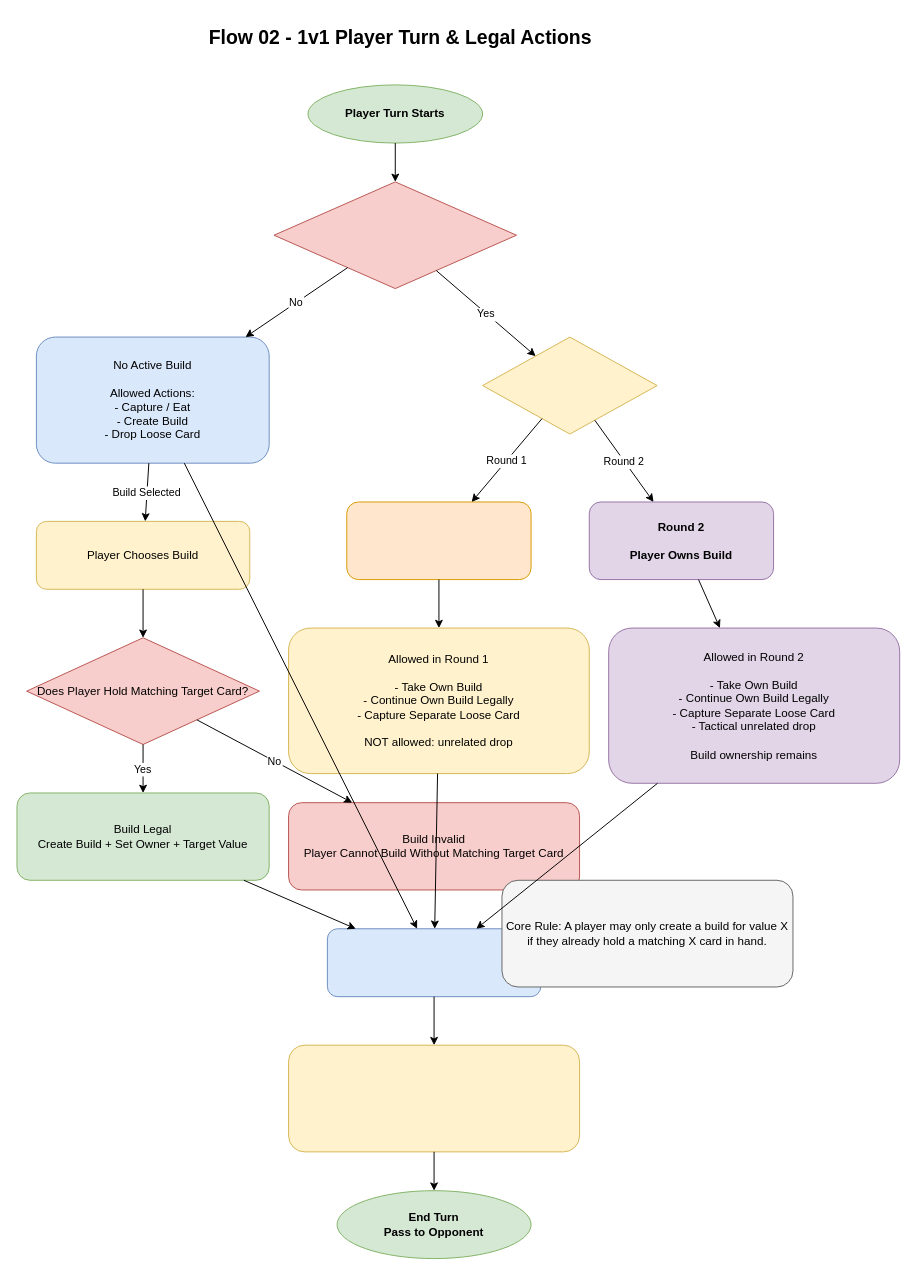
Image size: 917x1276. Some labels were removed from this diagram. Here are the shapes that lost their labels. From the top down, the centre of each, then its label:
At pixel 395 235: "Does Player Own an Active Build?".
At pixel 569 385: "Which Round?".
At pixel 438 540: "Round 1 Player Owns Build".
At pixel 433 962: "Apply Legal Action".
At pixel 434 1098: "Update Game State Hand / Floor / Build / Inventory / Top Card / Last Capture".
